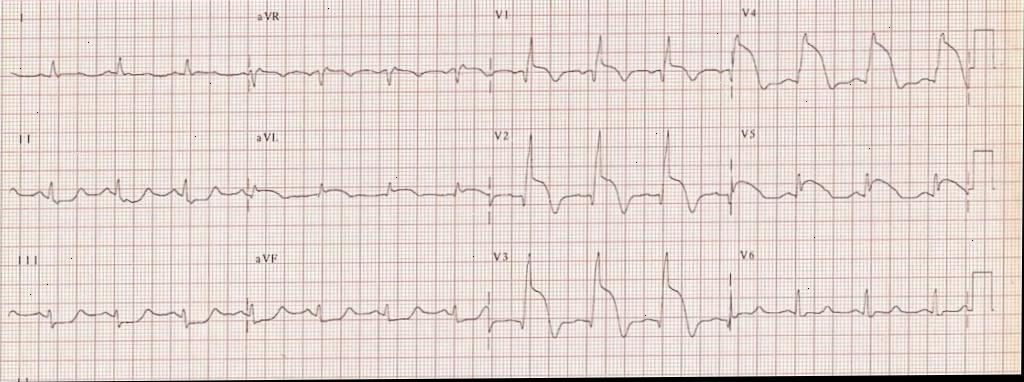Lead_I: (8, 7, 246, 106)
Lead_II: (6, 121, 247, 223)
Lead_III: (1, 241, 249, 352)
Lead_V1: (491, 2, 733, 110)
Lead_V2: (490, 115, 733, 230)
Lead_V3: (491, 238, 733, 348)
Lead_V4: (733, 0, 968, 120)
Lead_V5: (733, 122, 969, 230)
Lead_V6: (735, 233, 971, 349)
Lead_aVF: (246, 242, 490, 356)
Lead_aVL: (247, 124, 491, 223)
Lead_aVR: (249, 7, 491, 111)
